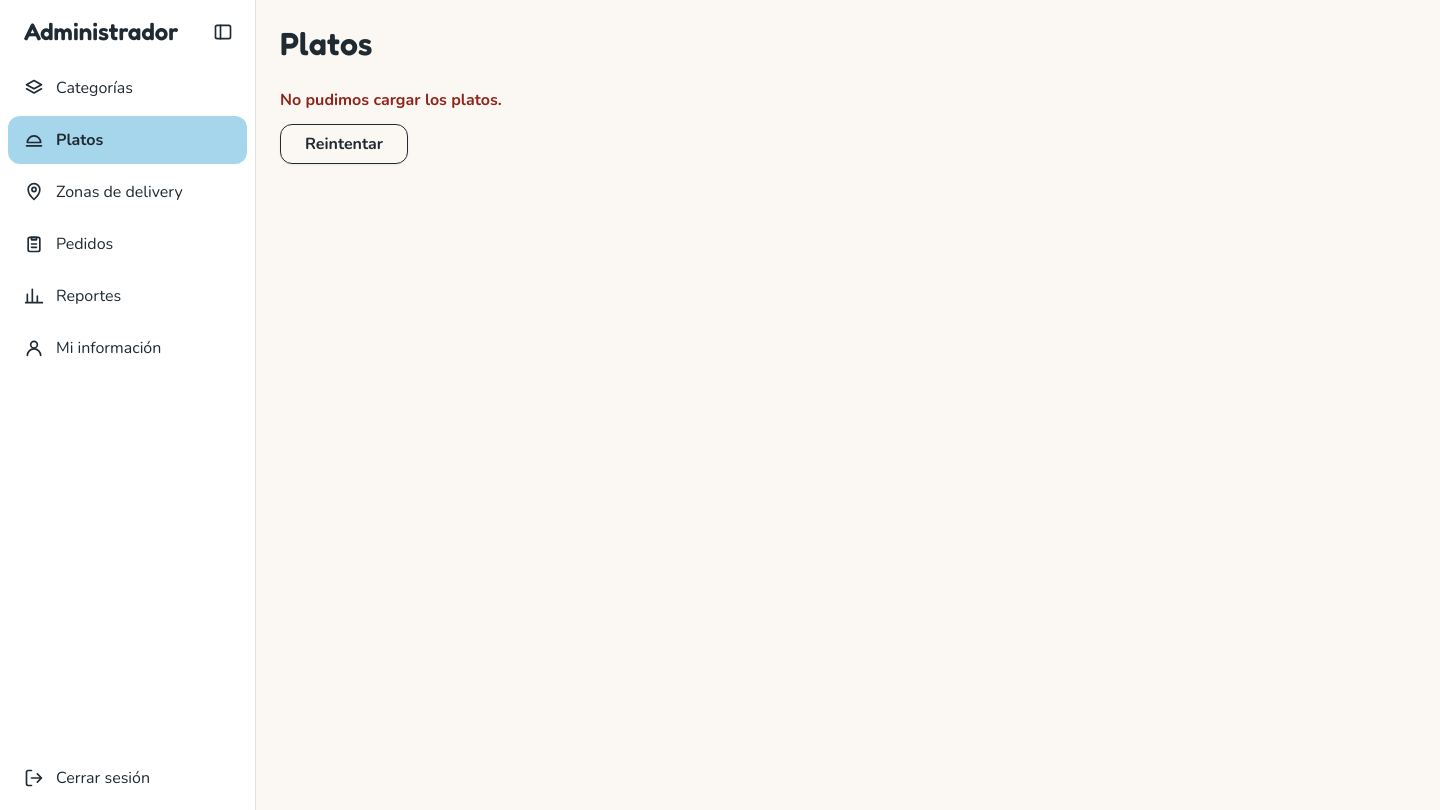
Panel de administración › cambiar de sección cambia la URL y el contenido
The width and height of the screenshot is (1440, 810).
Check: the heading "Platos" is shown, box [280,24,372,64]
Click the link "Pedidos".
click(69, 244)  # box [24,233,113,255]
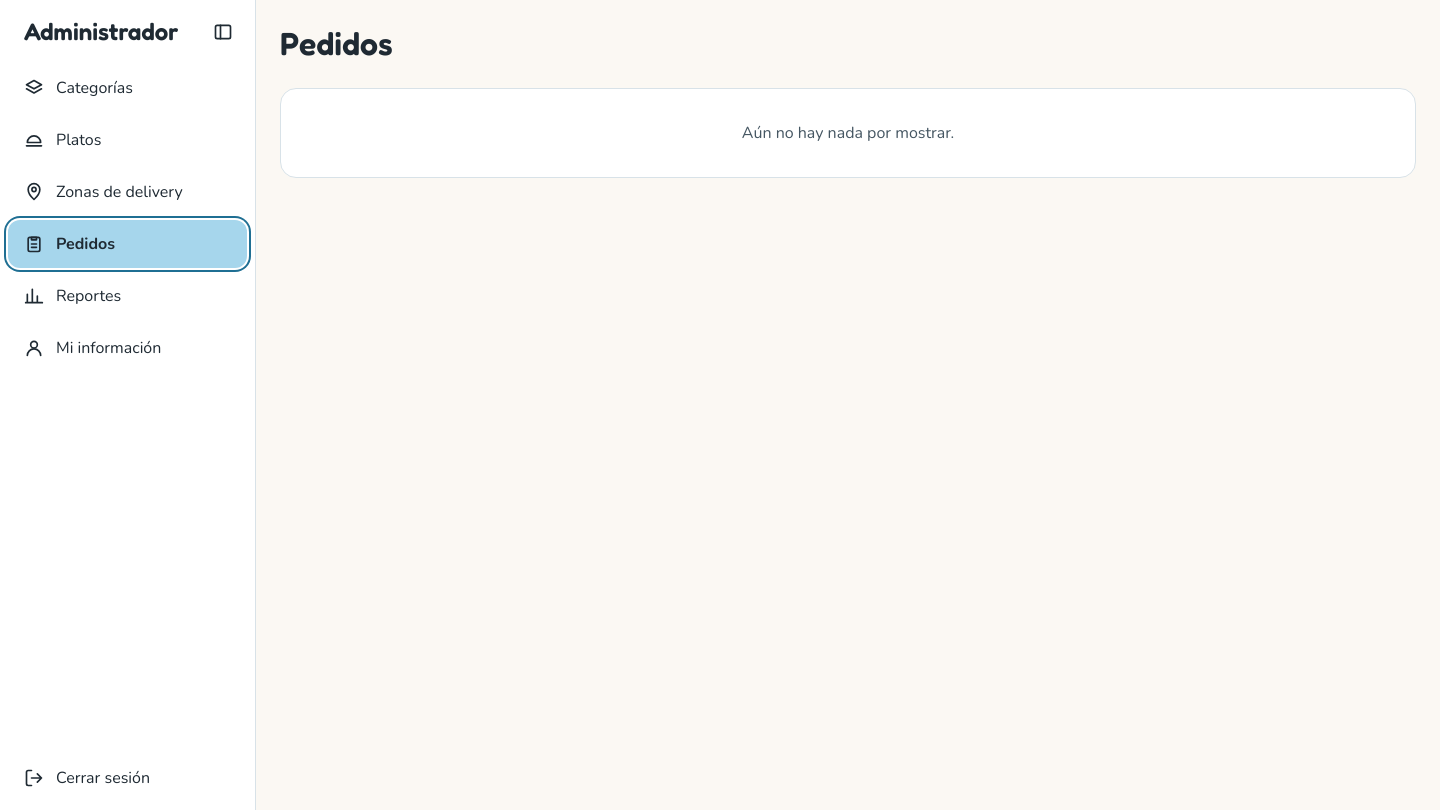
Check: the heading "Pedidos" is shown, box [280,24,393,63]
